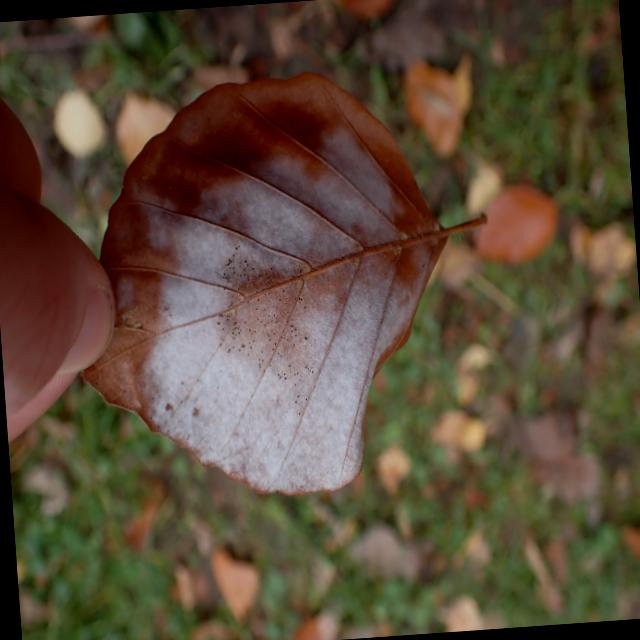powdery_mildew: (84, 74, 452, 494)
